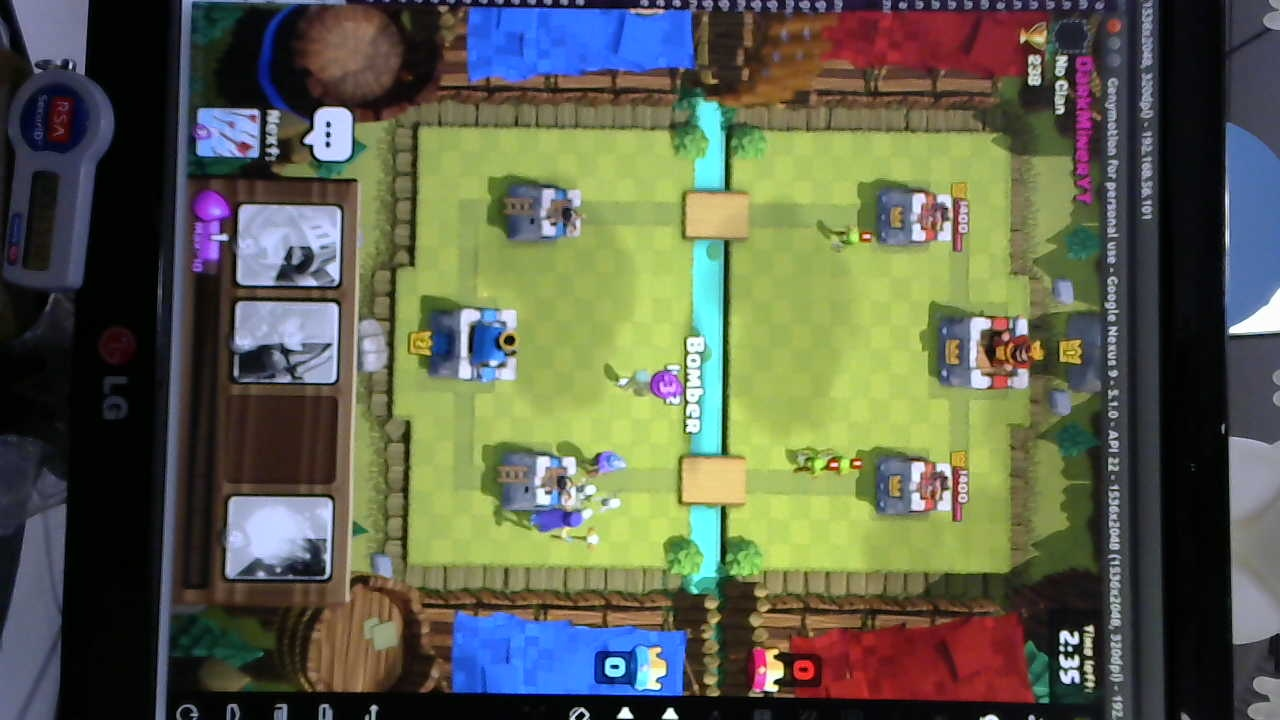arena: (503, 178, 586, 244), (499, 449, 579, 515)
earena: (878, 183, 958, 246), (882, 457, 961, 518)
eking: (937, 308, 1041, 387)
goblin: (823, 222, 877, 255)
goblins: (796, 446, 868, 478)
king: (434, 305, 524, 386)
musketeer: (581, 450, 629, 480)
skeleton: (571, 482, 621, 524)
witch: (528, 503, 598, 543)
